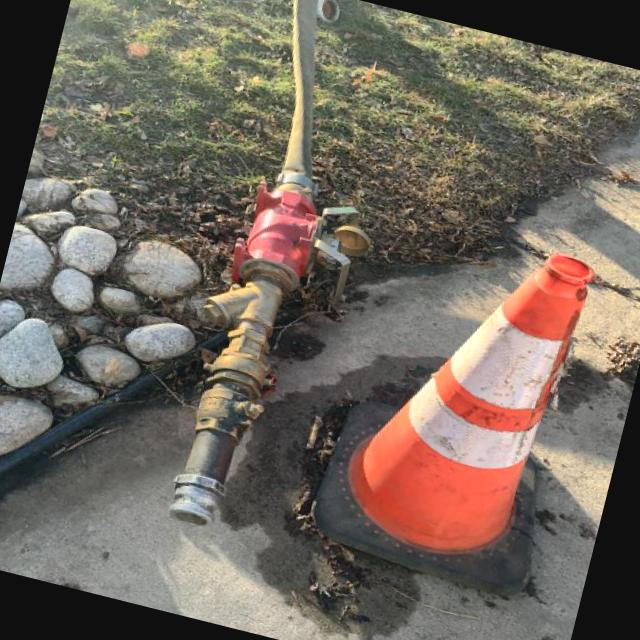Cone: (248, 76, 640, 616)
